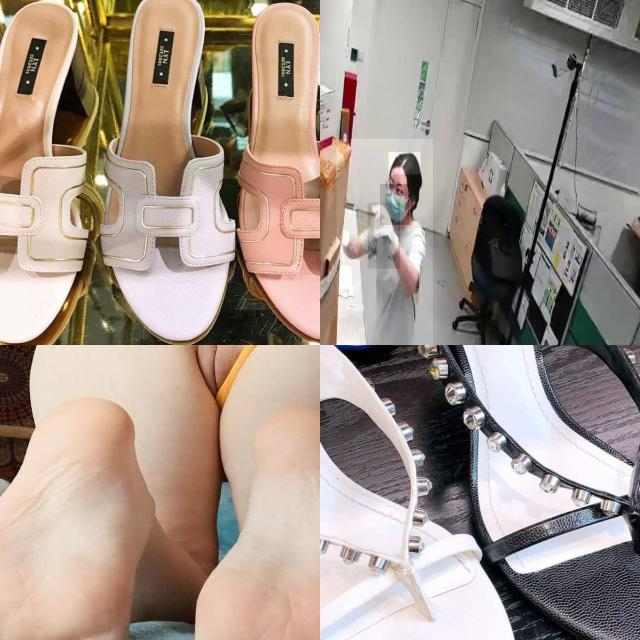Barefoots: (0, 386, 152, 640), (176, 404, 320, 640)
Sandals: (410, 345, 640, 640), (320, 345, 538, 640), (99, 0, 249, 345), (0, 0, 106, 345), (231, 0, 320, 345)
face_mask: (380, 184, 409, 225)
hand_glove: (368, 202, 400, 268)
head_nohelmet: (389, 152, 421, 175)
person: (336, 138, 433, 345)
